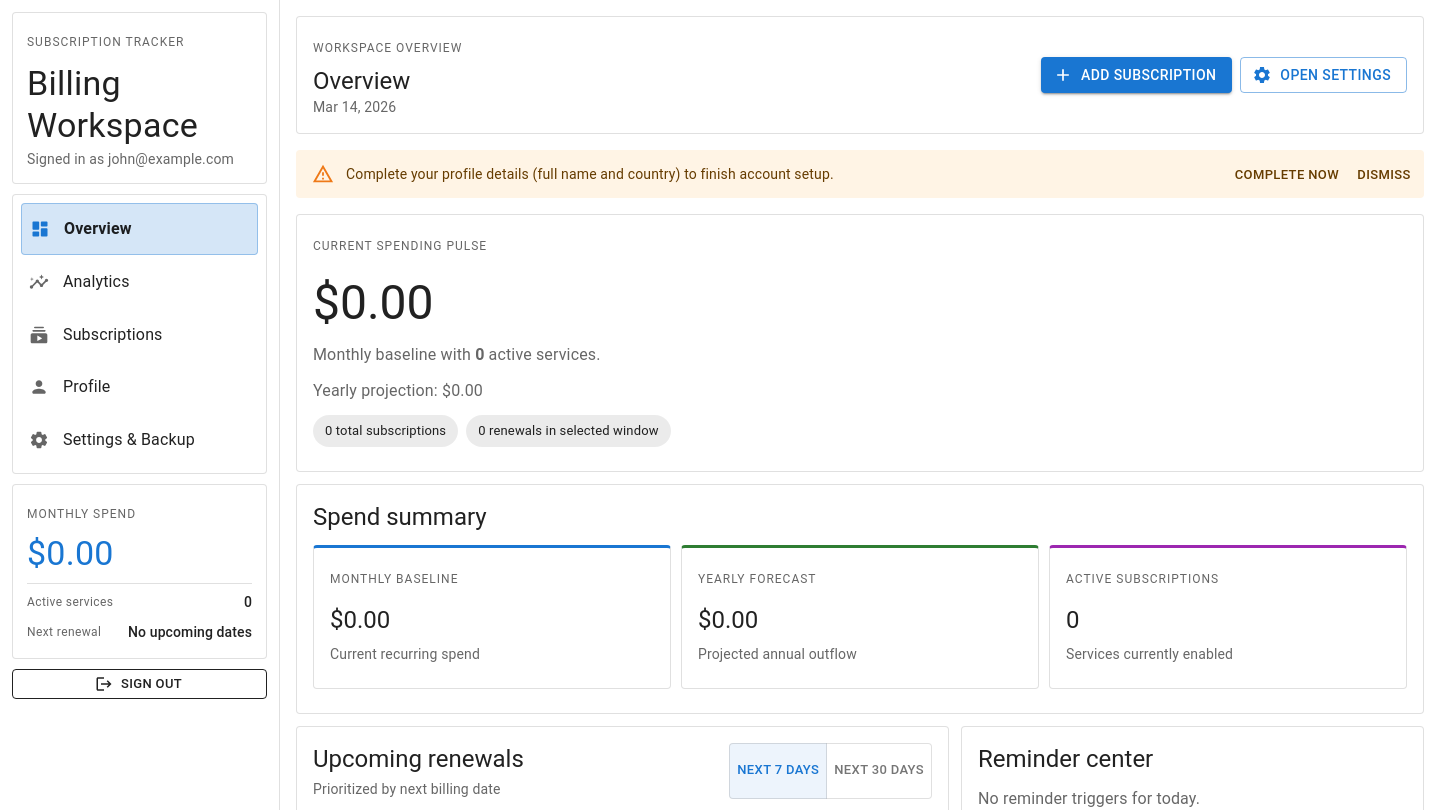
Scenario: App auth and profile flows › shows soft prompt for legacy user and opens profile tab
Expected: the text "Complete your profile details (full name and country)" is shown, 346,166 -> 834,182
What coordinates should you click on to do the following:
click the button "Complete now"
I would click on:
 (1287, 175)
Its box is 1230,160 -> 1344,191.
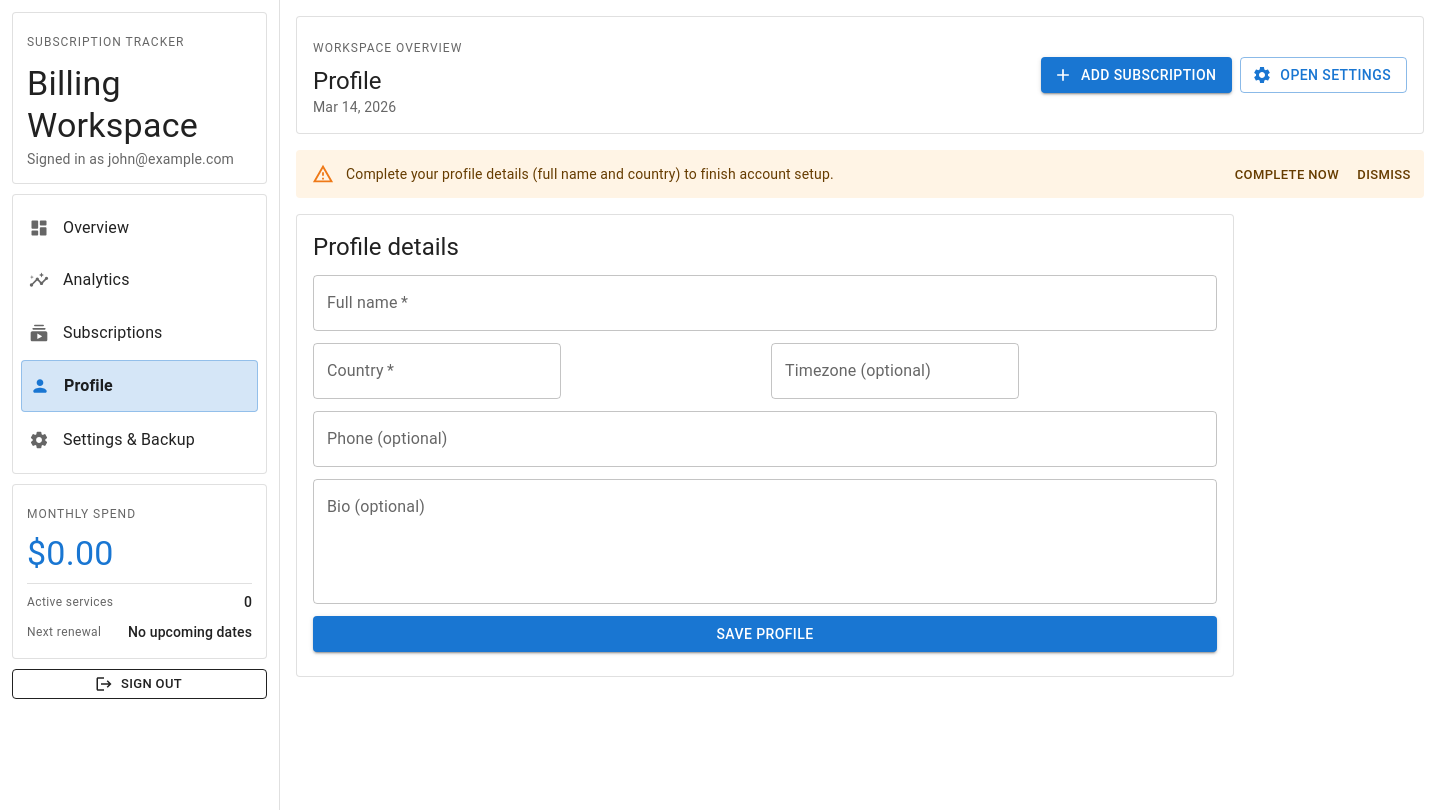
Now the heading "Profile details" is shown, box 313,233 -> 459,261
